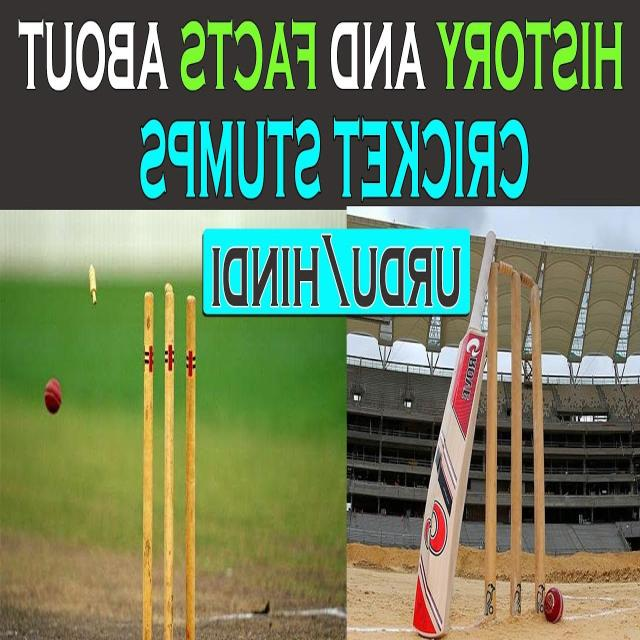ball: (40, 376, 66, 422), (545, 590, 564, 625)
stump: (484, 254, 547, 623), (144, 291, 196, 640)
